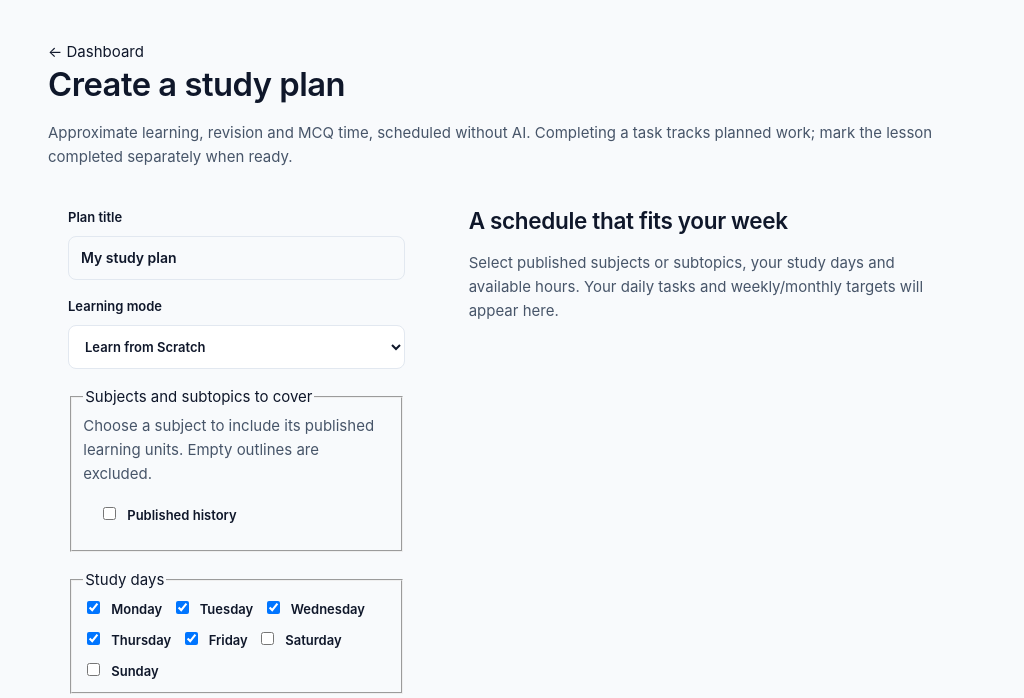
Test: keeps planner inputs intact when scheduling validation fails
Click the checkbox labelled "Published history". click: click(110, 514)
box: x1=103 y1=507 x2=116 y2=520
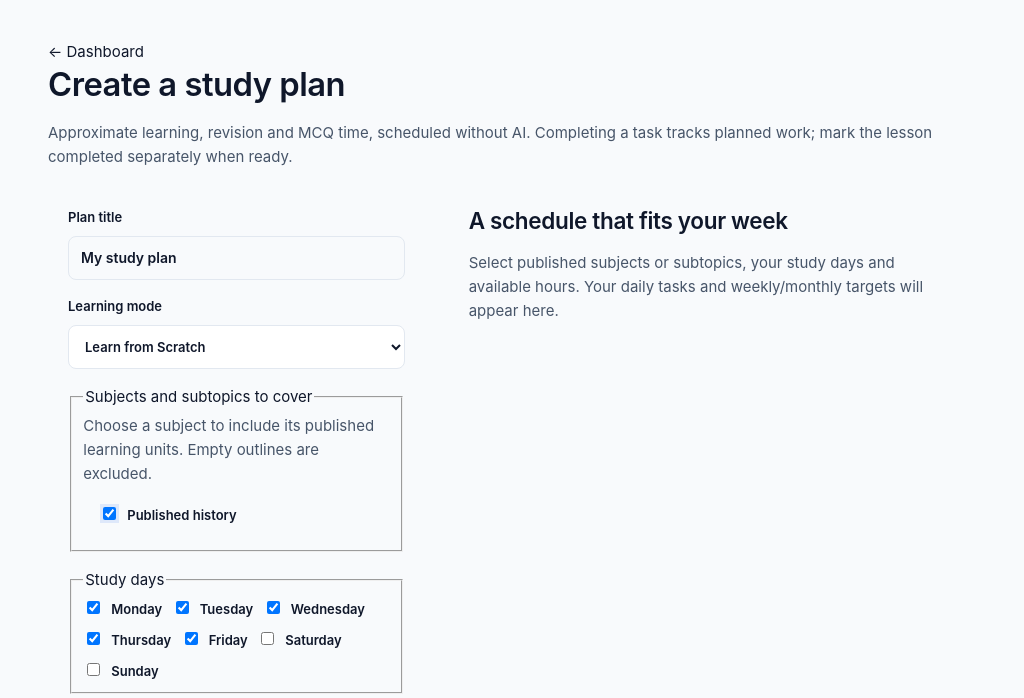
Replace the text in the field labelled "Plan title" with "My retained plan". click: (236, 258)
box: x1=68 y1=236 x2=405 y2=280
(page scrolled)
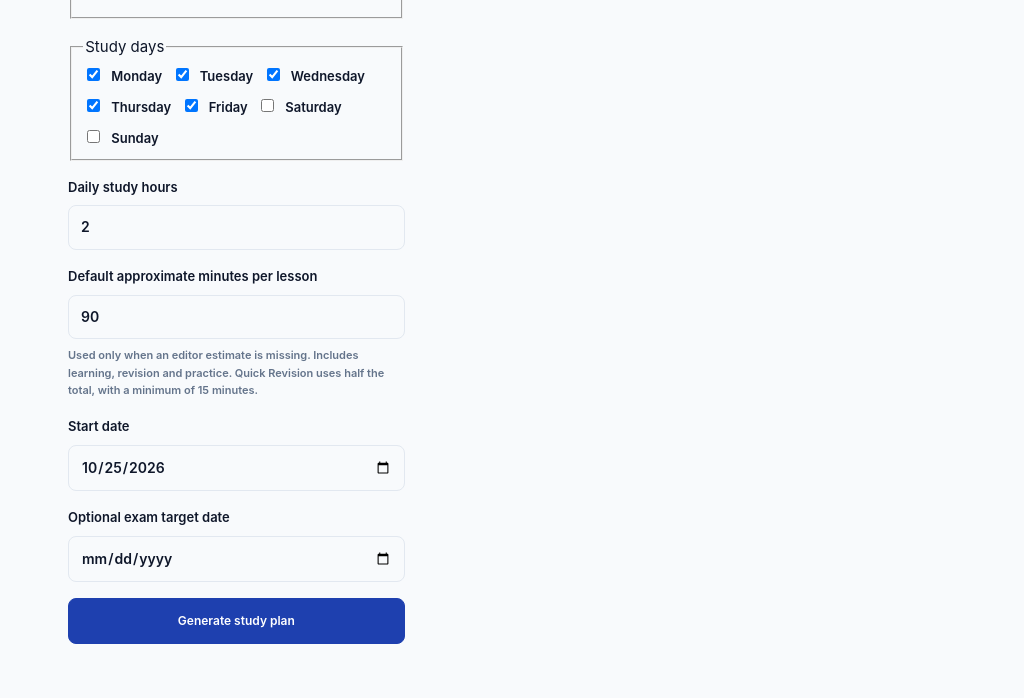
Click the button "Generate study plan". click: click(236, 621)
box: x1=68 y1=598 x2=405 y2=644
(page scrolled)
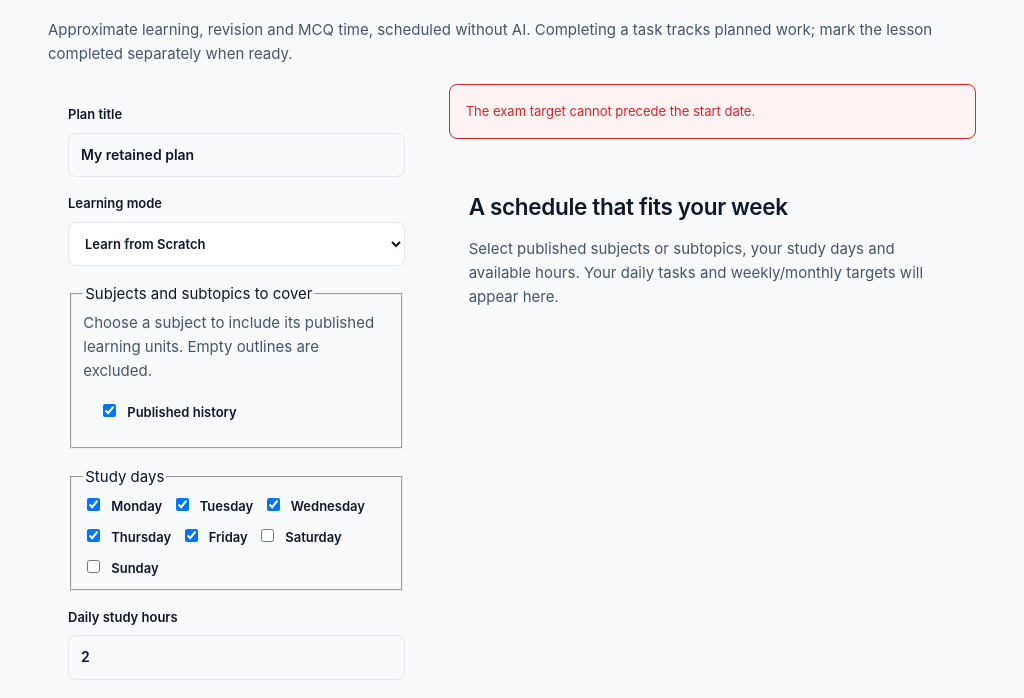
Check: the checkbox labelled "Published history" is checked, box x1=103 y1=404 x2=116 y2=417
Check: the message reads "The exam target cannot precede the start date.", box x1=466 y1=103 x2=755 y2=119
